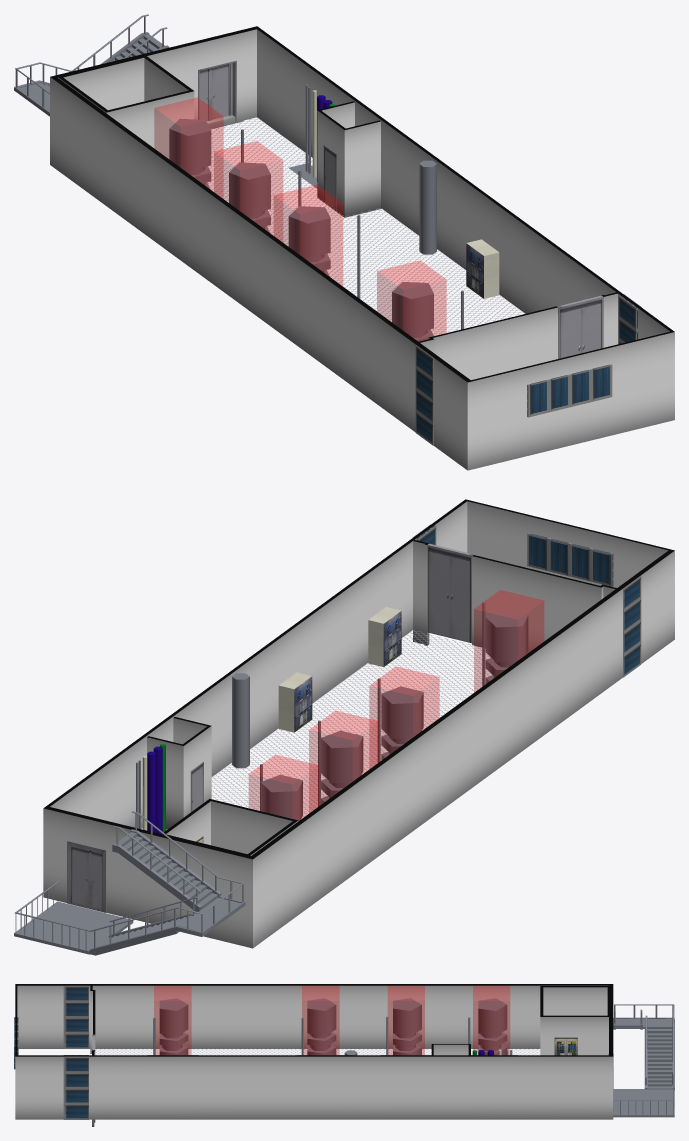
Rendered from soulbrain_T6-3-3F-2.glb.
The picture shows the model from 3 angles, top to bottom: view 1: azimuth 30°, elevation 25°; view 2: azimuth 150°, elevation 25°; view 3: azimuth 270°, elevation 25°; orthographic projection. The views are drawn at different scales.
Parts seen in each view (by area): view 1: Box1701, T6-3-3F-2, Line1057, Line1054, equipment-T6-3-3F-2-004, equipment-T6-3-3F-2-002, equipment-T6-3-3F-2-003, equipment-T6-3-3F-2-001, Line669, Box2538, T6-3-3F-3 A, Line1055 (+1 smaller); view 2: Box1701, T6-3-3F-2, Line669, Line1057, equipment-T6-3-3F-2-002, equipment-T6-3-3F-2-001, equipment-T6-3-3F-2-003, Line1054, equipment-T6-3-3F-2-004, Line1055, Box2538, Box2539 (+2 smaller); view 3: Box1701, Line1057, T6-3-3F-2, Line669, equipment-T6-3-3F-2-003, equipment-T6-3-3F-2-001, equipment-T6-3-3F-2-002, equipment-T6-3-3F-2-004, Line1054, Line1056.
Boxes of the visible parts, x1=… form: Box1701: x1=50, y1=26, x2=674, y2=470; T6-3-3F-2: x1=198, y1=60, x2=641, y2=445; Line1057: x1=169, y1=118, x2=433, y2=341; Line1054: x1=317, y1=101, x2=381, y2=217; equipment-T6-3-3F-2-004: x1=154, y1=97, x2=223, y2=197; equipment-T6-3-3F-2-002: x1=274, y1=185, x2=342, y2=285; equipment-T6-3-3F-2-003: x1=214, y1=141, x2=282, y2=241; equipment-T6-3-3F-2-001: x1=377, y1=260, x2=446, y2=341; Line669: x1=14, y1=14, x2=243, y2=129; Box2538: x1=466, y1=239, x2=499, y2=298; T6-3-3F-3 A: x1=419, y1=160, x2=436, y2=254; Line1055: x1=305, y1=84, x2=335, y2=181; Box1701: x1=43, y1=499, x2=674, y2=948; T6-3-3F-2: x1=67, y1=524, x2=641, y2=912; Line669: x1=14, y1=811, x2=245, y2=955; Line1057: x1=260, y1=610, x2=528, y2=821; equipment-T6-3-3F-2-002: x1=369, y1=666, x2=439, y2=767; equipment-T6-3-3F-2-001: x1=474, y1=590, x2=543, y2=692; equipment-T6-3-3F-2-003: x1=309, y1=711, x2=378, y2=812; Line1054: x1=147, y1=717, x2=211, y2=829; equipment-T6-3-3F-2-004: x1=249, y1=755, x2=318, y2=820; Line1055: x1=136, y1=744, x2=165, y2=833; Box2538: x1=278, y1=672, x2=312, y2=732; Box2539: x1=368, y1=607, x2=401, y2=667; Box1701: x1=15, y1=984, x2=613, y2=1126; Line1057: x1=159, y1=998, x2=507, y2=1055; T6-3-3F-2: x1=14, y1=986, x2=613, y2=1119; Line669: x1=613, y1=1004, x2=674, y2=1117; equipment-T6-3-3F-2-003: x1=388, y1=986, x2=424, y2=1054; equipment-T6-3-3F-2-001: x1=154, y1=986, x2=191, y2=1054; equipment-T6-3-3F-2-002: x1=302, y1=986, x2=339, y2=1054; equipment-T6-3-3F-2-004: x1=473, y1=986, x2=509, y2=1054; Line1054: x1=431, y1=1044, x2=470, y2=1055; Line1056: x1=153, y1=1016, x2=470, y2=1055.
Bounding box in the file's own units: 8.12 × 4.45 × 31.17.
Materials: 15 (13 with a texture image).
